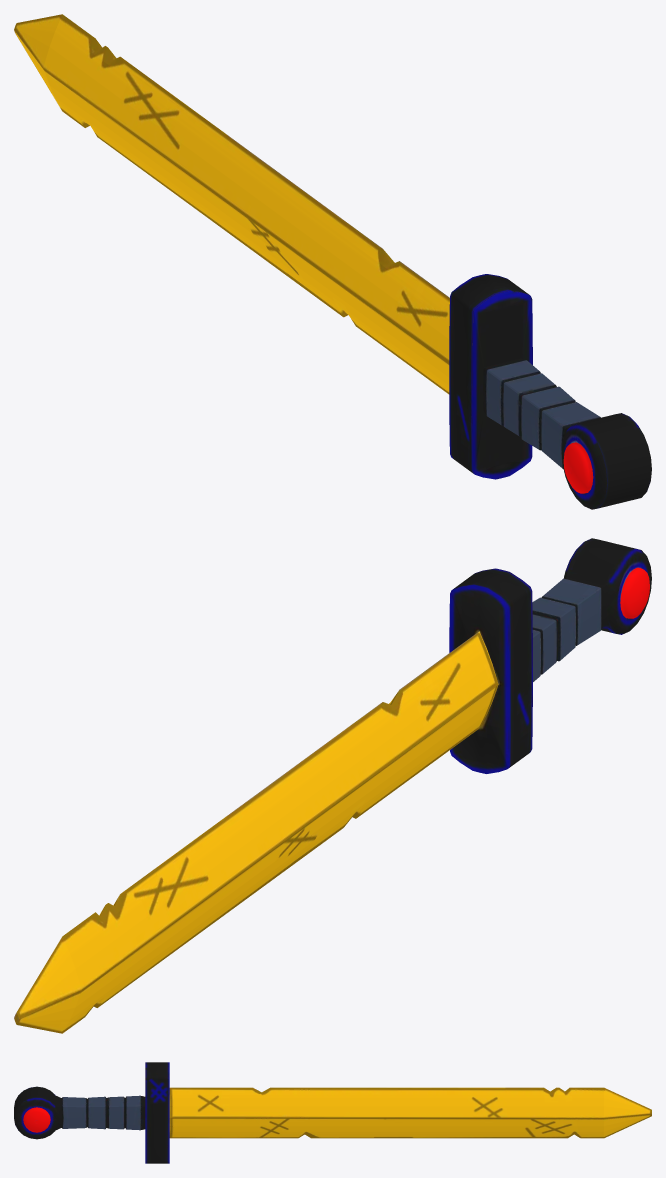
The model's file is sword.glb.
The picture shows the model from 3 angles, top to bottom: view 1: azimuth 30°, elevation 25°; view 2: azimuth 150°, elevation 25°; view 3: azimuth 270°, elevation 25°; orthographic projection. The views are drawn at different scales.
Visible parts, largest first — view 1: defaultMaterial; view 2: defaultMaterial; view 3: defaultMaterial.
Boxes of the visible parts, x1,y1,x2,y2 form: defaultMaterial: (14, 14, 651, 509); defaultMaterial: (14, 538, 651, 1033); defaultMaterial: (14, 1062, 651, 1163).
Bounding box in the file's own units: 1.87 × 4.63 × 27.73.
1 material, 1 textured.
